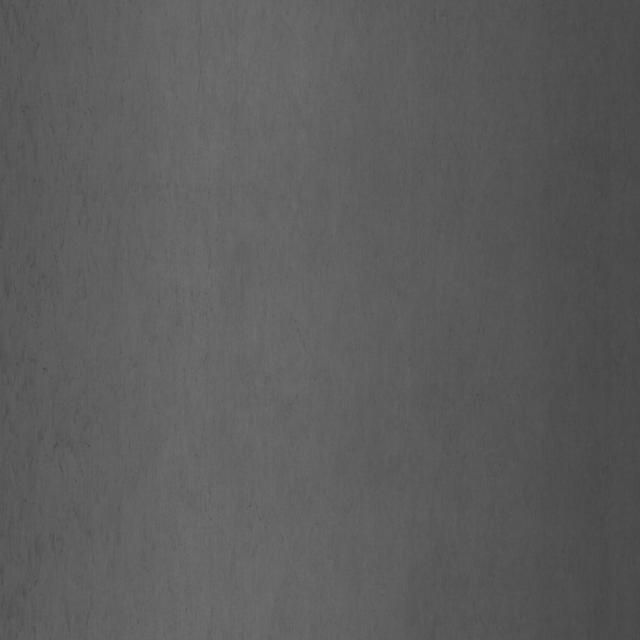inclusion: (24, 320, 110, 571)
